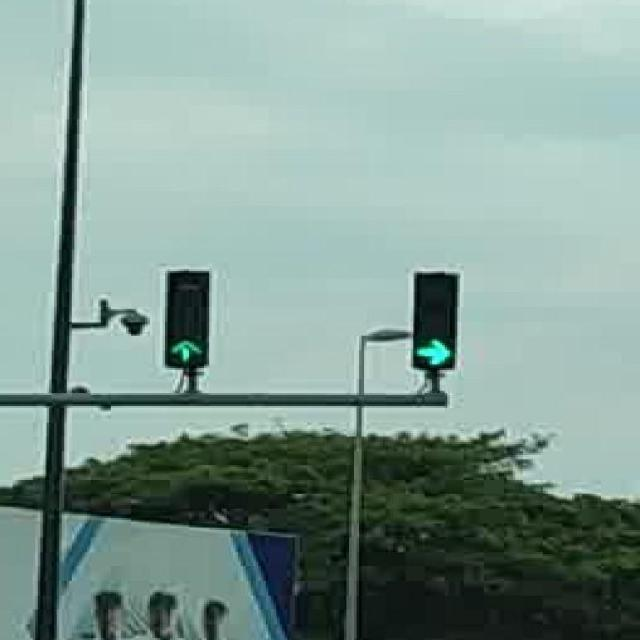green_light: (164, 268, 210, 368), (412, 269, 457, 366)
